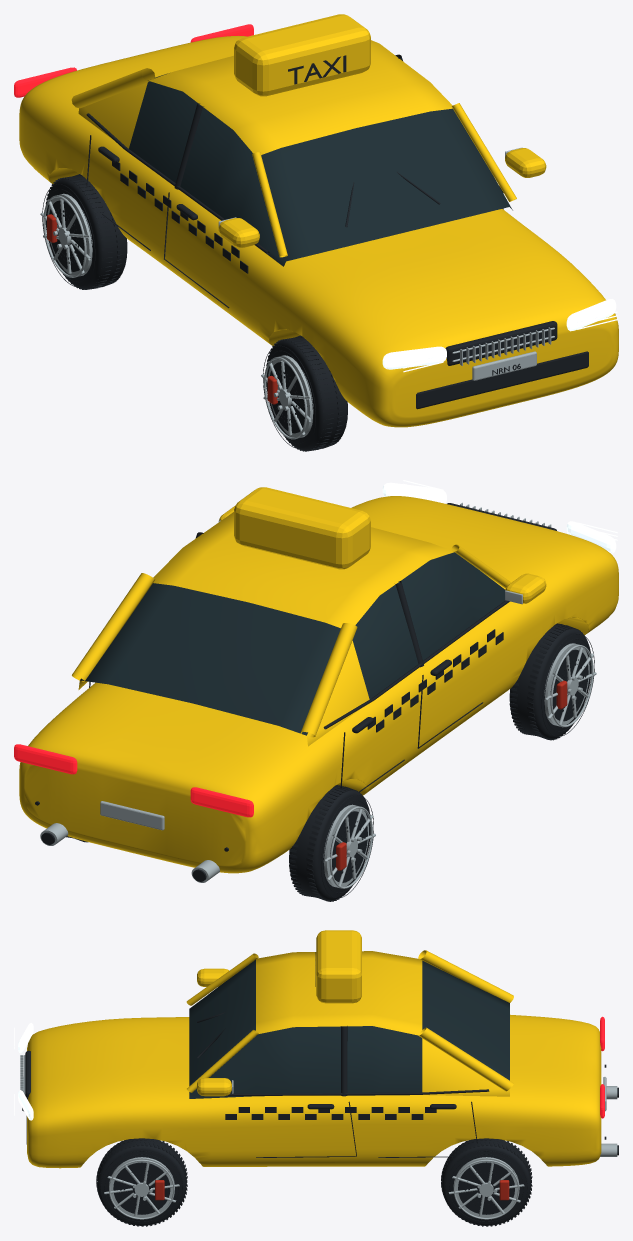
Rendered from car-6.glb.
3 renders of one model, top to bottom at view 1: azimuth 30°, elevation 25°; view 2: azimuth 150°, elevation 25°; view 3: azimuth 270°, elevation 25°, orthographic. The views are drawn at different scales.
Visible parts, largest first — view 1: SM_car_6_Paint, Integrated cabin, SM_car_6_Tyres_and_trim, Wheel_L_Front, Wheel_L_Rear, SM_car_6_Machined_alloy, SM_car_6_Headlight_lens, SM_car_6_Rear_LED; view 2: SM_car_6_Paint, Integrated cabin, Wheel_L_Front, Wheel_L_Rear, SM_car_6_Tyres_and_trim, SM_car_6_Machined_alloy, SM_car_6_Rear_LED, SM_car_6_Headlight_lens; view 3: SM_car_6_Paint, Integrated cabin, Wheel_R_Front, Wheel_R_Rear, SM_car_6_Tyres_and_trim, SM_car_6_Machined_alloy, SM_car_6_Headlight_lens.
Boxes of the visible parts, x1,y1,x2,y2 form: SM_car_6_Paint: (19,14,618,427); Integrated cabin: (78,40,512,266); SM_car_6_Tyres_and_trim: (86,54,588,409); Wheel_L_Front: (263,335,347,451); Wheel_L_Rear: (42,174,127,289); SM_car_6_Machined_alloy: (40,147,554,435); SM_car_6_Headlight_lens: (382,299,617,372); SM_car_6_Rear_LED: (14,24,253,97); SM_car_6_Paint: (19,487,618,873); Integrated cabin: (78,512,509,746); Wheel_L_Front: (509,623,594,740); Wheel_L_Rear: (289,785,373,901); SM_car_6_Tyres_and_trim: (35,503,556,881); SM_car_6_Machined_alloy: (40,502,596,886); SM_car_6_Rear_LED: (14,744,253,817); SM_car_6_Headlight_lens: (382,480,617,553); SM_car_6_Paint: (27,930,601,1168); Integrated cabin: (189,951,509,1098); Wheel_R_Front: (96,1138,187,1226); Wheel_R_Rear: (441,1138,532,1226); SM_car_6_Tyres_and_trim: (25,952,618,1157); SM_car_6_Machined_alloy: (20,1055,617,1216); SM_car_6_Headlight_lens: (14,1023,33,1120).
Bounding box in the file's own units: 2.2 × 1.95 × 4.72.
